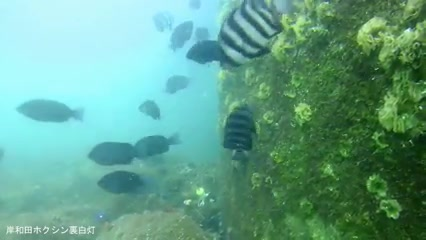ishidai: (214, 1, 293, 73), (221, 101, 260, 155)
smallfish: (16, 96, 89, 129)
